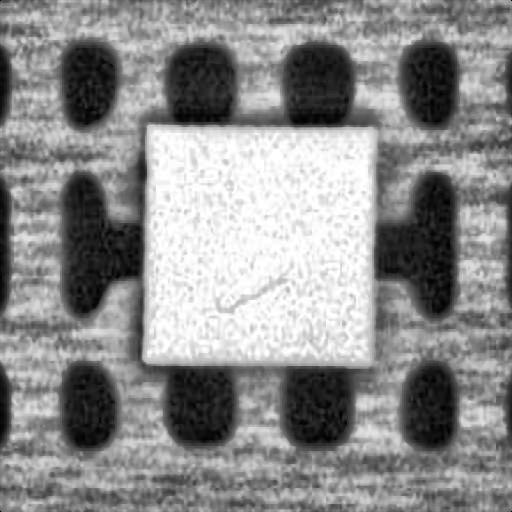DIE_CRACK: (218, 260, 289, 310)
